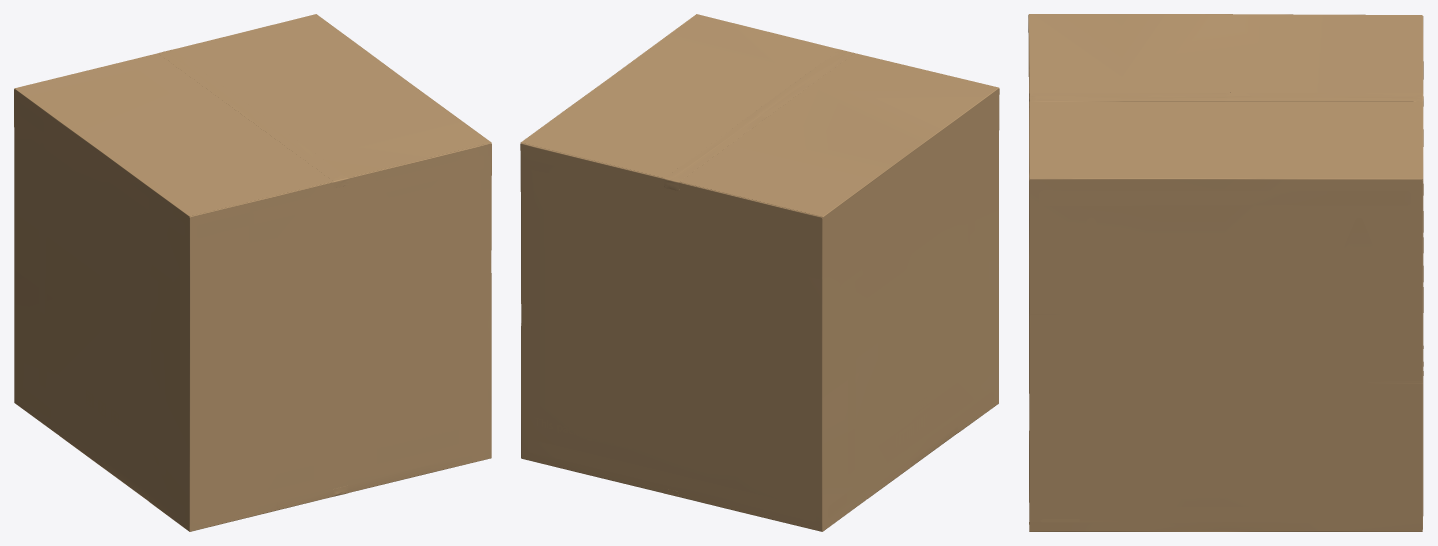
File: box_corrugated_brown_b13.glb
3 renders of one model, left to right at view 1: azimuth 30°, elevation 25°; view 2: azimuth 150°, elevation 25°; view 3: azimuth 270°, elevation 25°, orthographic. The views are drawn at different scales.
Size of the model in its own units: 0.6101 by 0.6087 by 0.6163.
